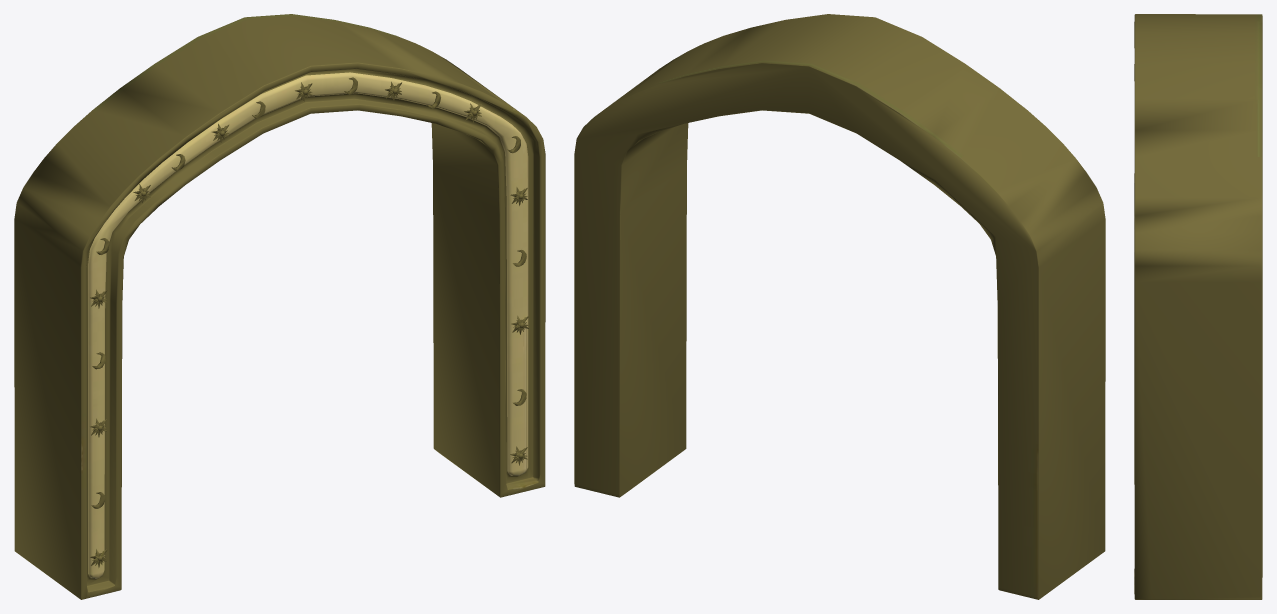
Rendered from doorFrame_lowPoly.glb.
3 views of the same model, side by side, from view 1: azimuth 30°, elevation 25°; view 2: azimuth 150°, elevation 25°; view 3: azimuth 270°, elevation 25° (orthographic). The views are drawn at different scales.
Parts seen in each view (by area): view 1: doorFrame:pCylinder21; view 2: doorFrame:pCylinder21; view 3: doorFrame:pCylinder21.
Part boxes in pixels (<box>): doorFrame:pCylinder21: <box>14,14,545,599</box>; doorFrame:pCylinder21: <box>574,14,1105,599</box>; doorFrame:pCylinder21: <box>1134,14,1262,599</box>.
Bounding box in the file's own units: 0.2661 × 0.2616 × 0.0666.
Materials: 1 (1 with a texture image).
